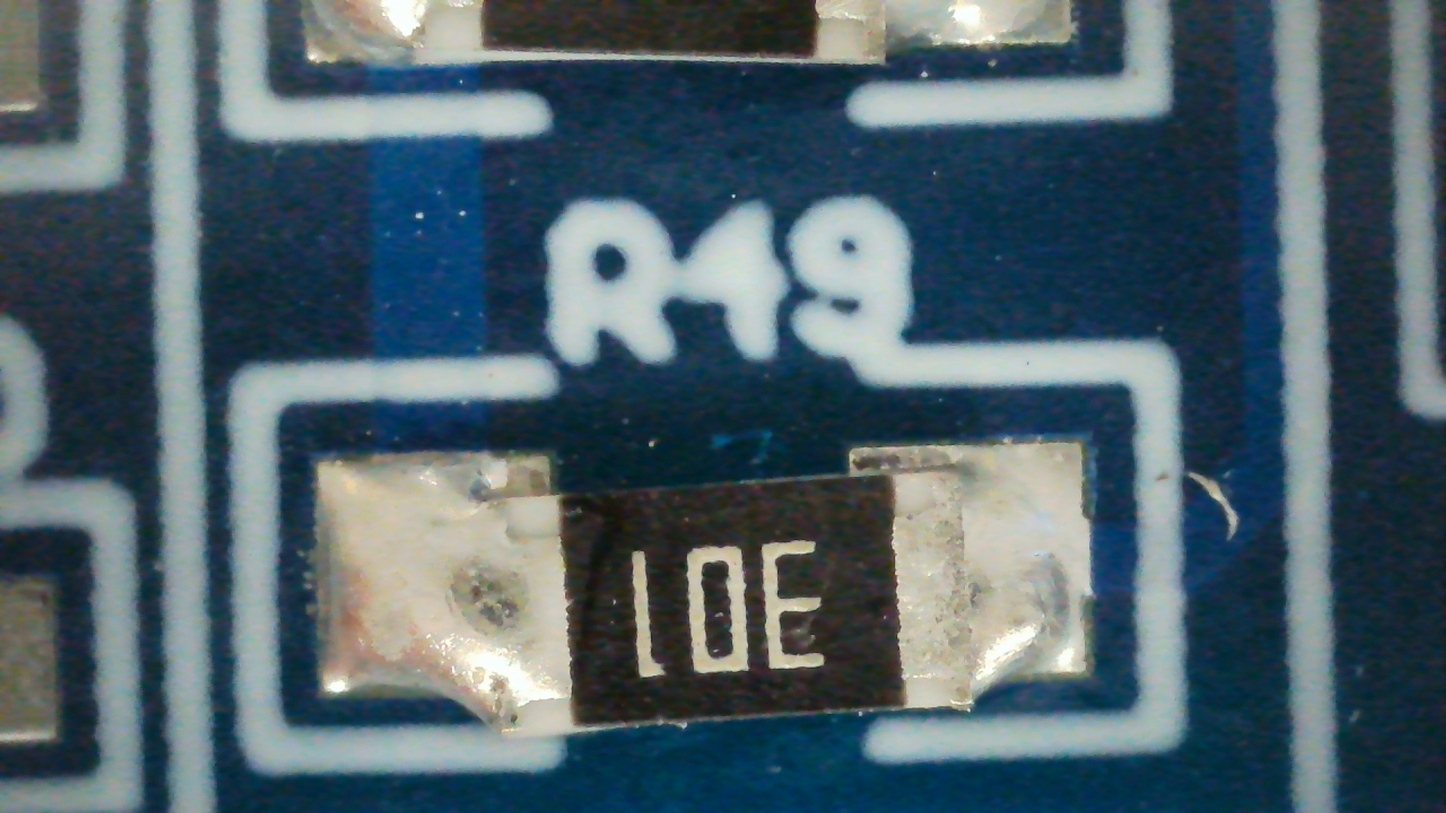NG: (318, 444, 1089, 735)
